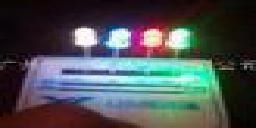LED: (100, 23, 133, 55), (68, 23, 97, 55), (138, 26, 165, 53), (168, 26, 193, 54)
